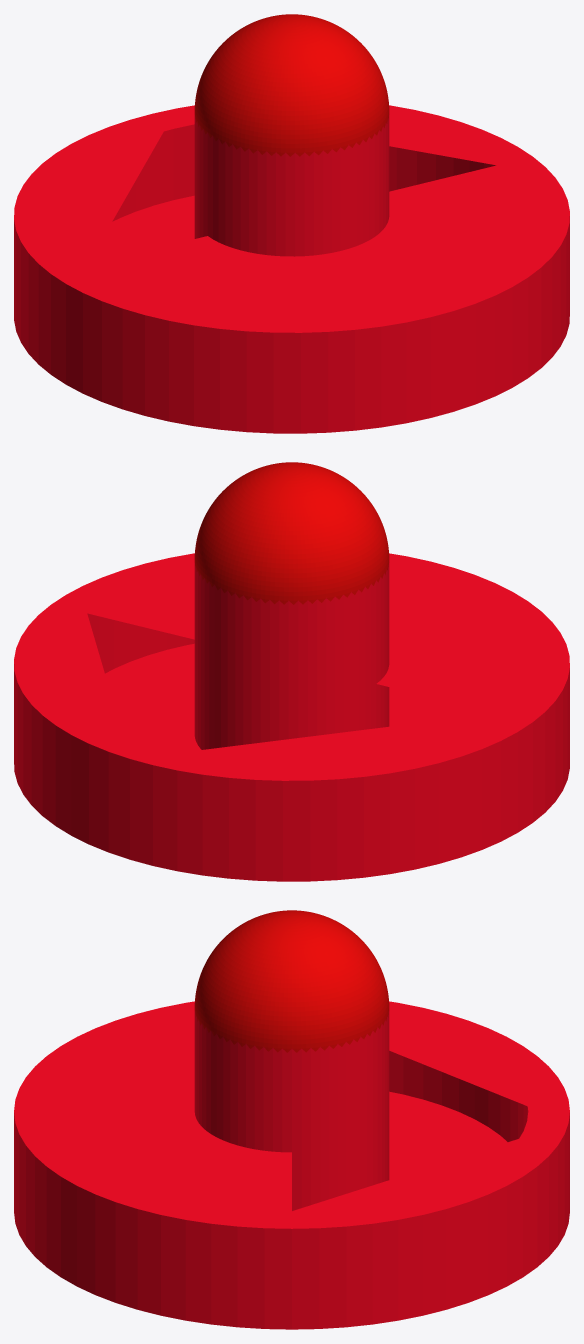
File: Malletmodel.fbx
3 renders of one model, top to bottom at view 1: azimuth 30°, elevation 25°; view 2: azimuth 150°, elevation 25°; view 3: azimuth 270°, elevation 25°, orthographic.
Visible parts, largest first — view 1: Cylinder, Sphere; view 2: Cylinder, Sphere; view 3: Cylinder, Sphere.
Boxes of the visible parts, x1,y1,x2,y2 form: Cylinder: (14,105,569,433); Sphere: (194,14,389,156); Cylinder: (14,553,569,881); Sphere: (194,462,389,604); Cylinder: (14,1001,569,1329); Sphere: (194,910,389,1052).
Bounding box in the file's own units: 200 × 116 × 200.
